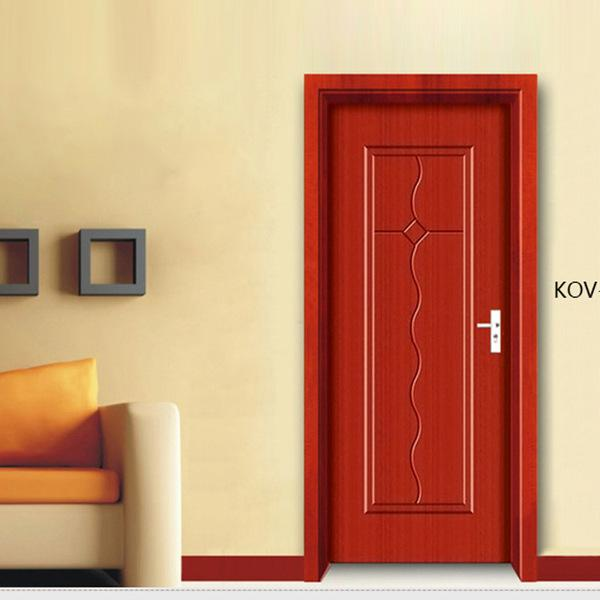door: (331, 106, 507, 556)
